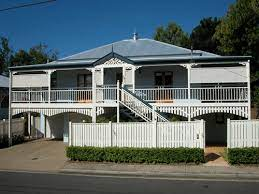Tin-shade House: (12, 32, 254, 158)
